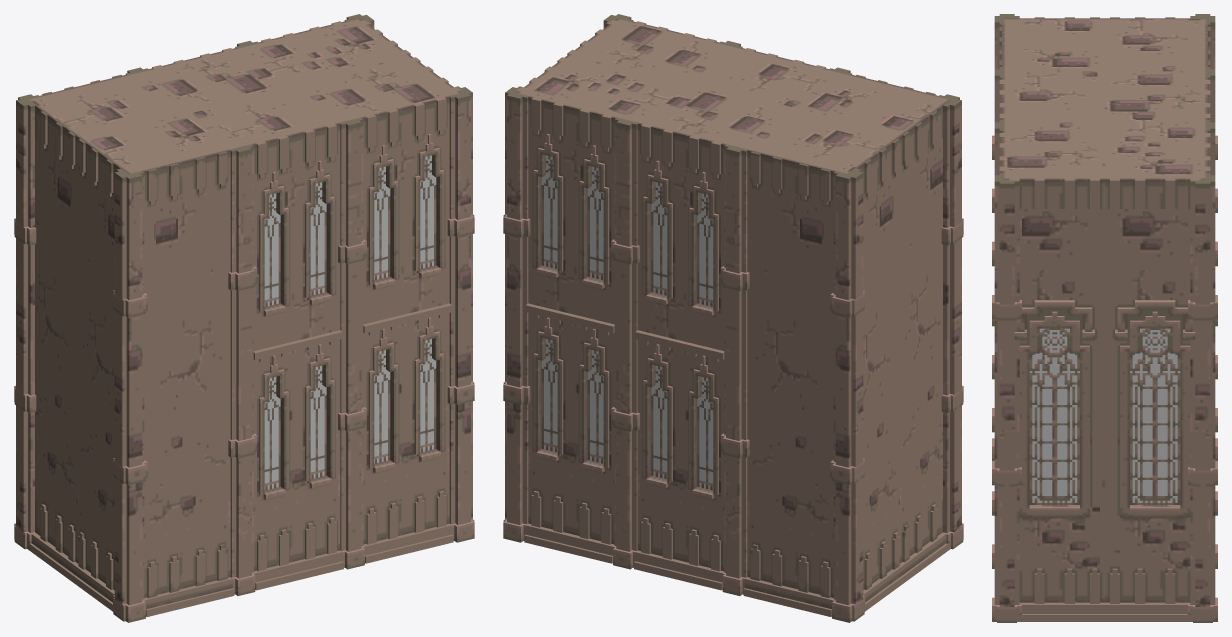
File: Building_Block-1.fbx
3 renders of one model, left to right at view 1: azimuth 30°, elevation 25°; view 2: azimuth 150°, elevation 25°; view 3: azimuth 270°, elevation 25°, orthographic.
Visible parts, largest first — view 1: Building_Block-1; view 2: Building_Block-1; view 3: Building_Block-1.
Part boxes in pixels (left/top/right/bottom): Building_Block-1: left=14, top=14, right=474, bottom=622; Building_Block-1: left=503, top=14, right=963, bottom=622; Building_Block-1: left=992, top=14, right=1217, bottom=622.
Bounding box in the file's own units: 800 × 965 × 450.
